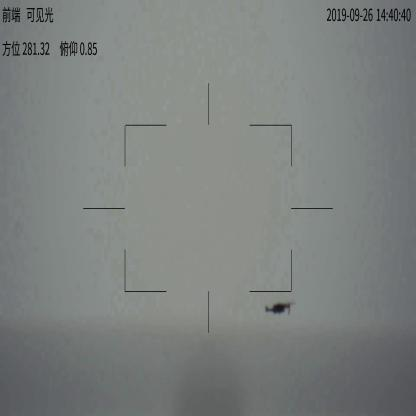uav: (262, 300, 295, 317)
